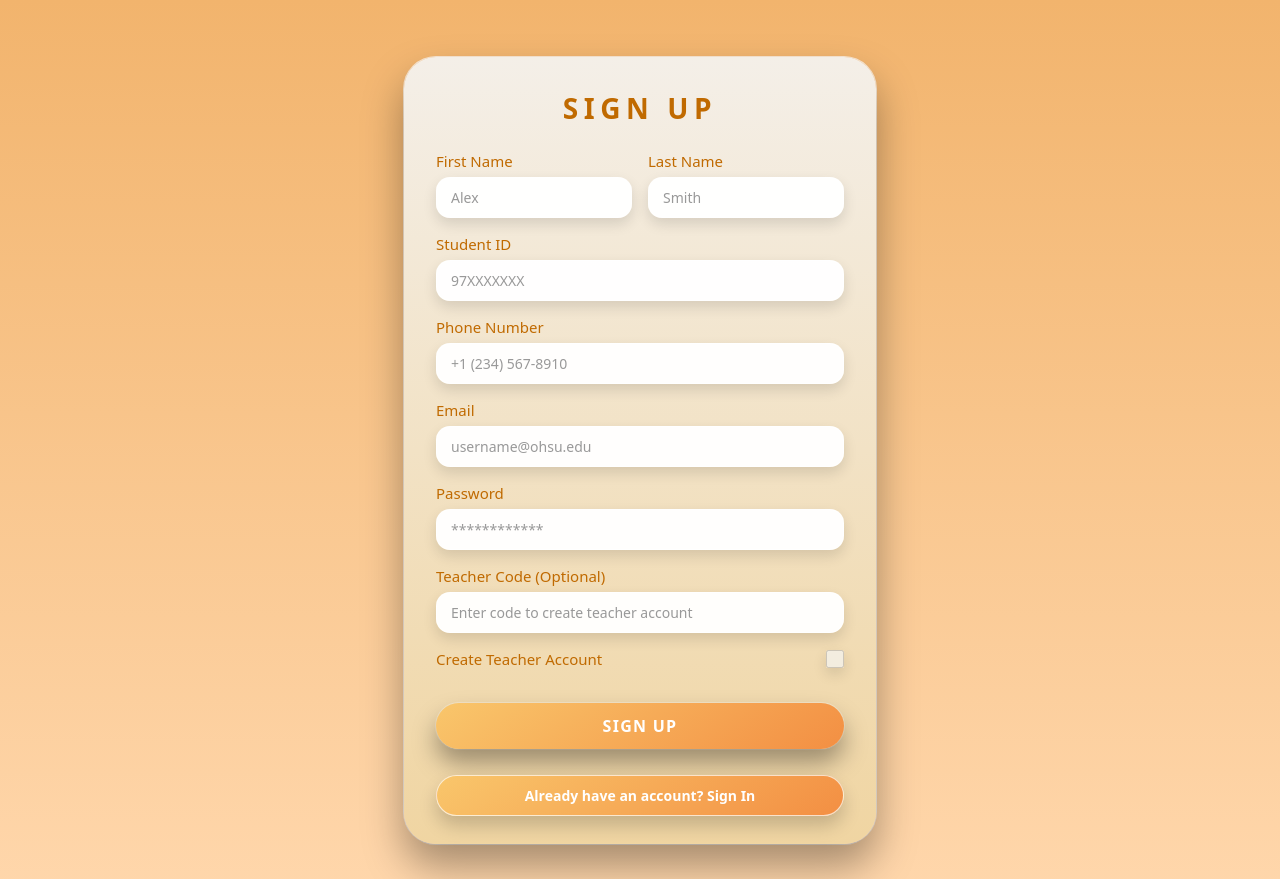
Test: SignUpPage › shows errors for empty or invalid inputs
In the field labelled "Email": coordinates (640, 446) top-left (436, 426), bottom-right (844, 466), type "invalidemail"
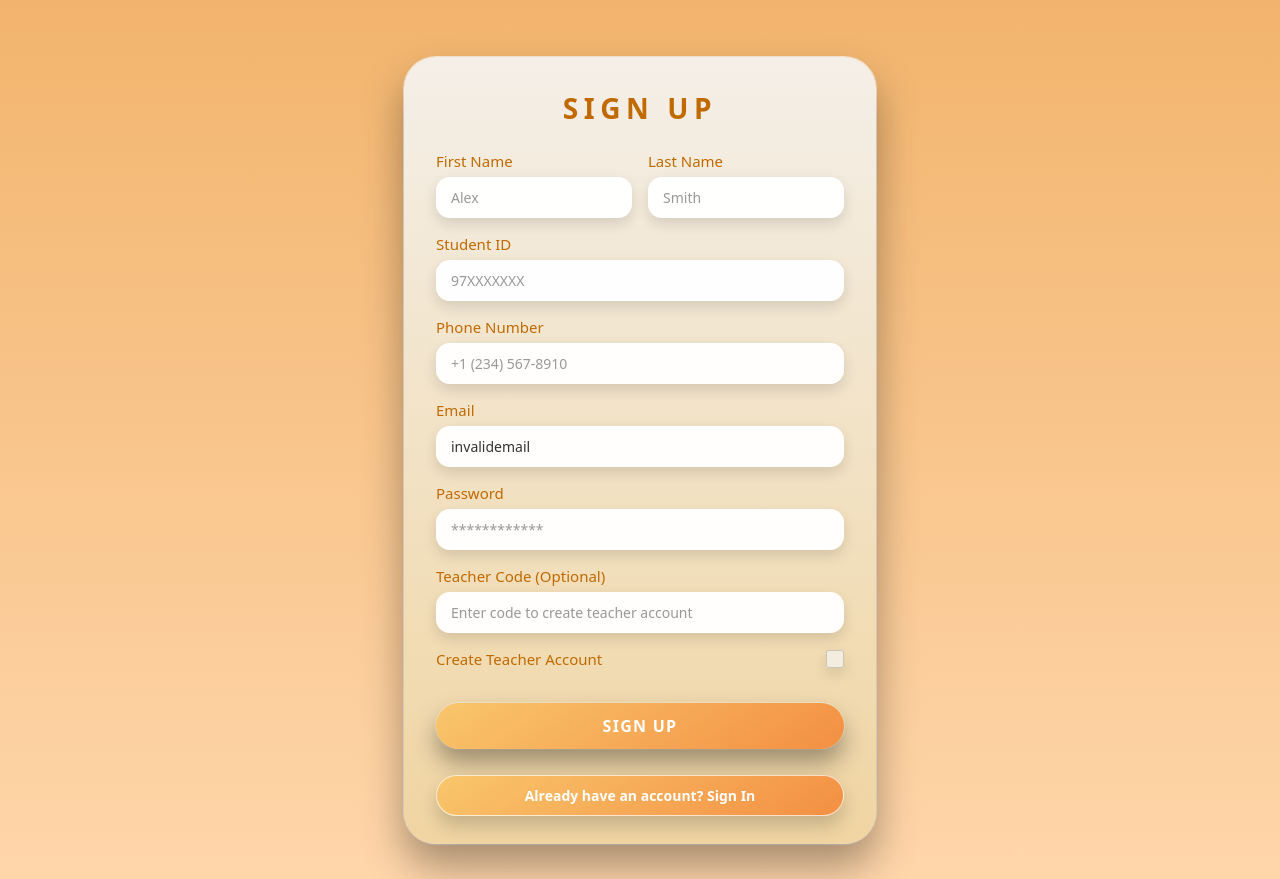
Click the button "Sign Up": coordinates (640, 726) top-left (436, 702), bottom-right (844, 748)
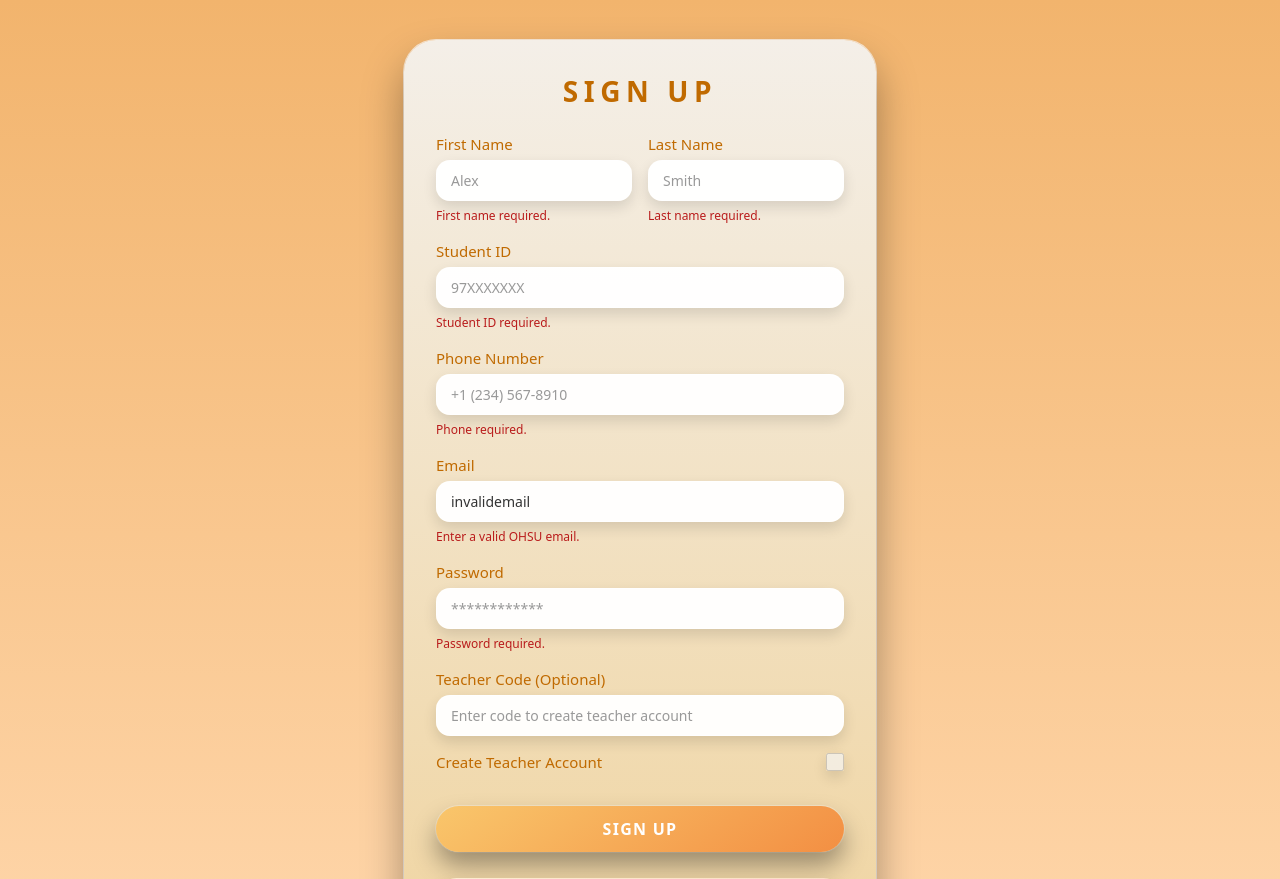
Now the text "Enter a valid OHSU email." is shown, box top-left (436, 528), bottom-right (580, 545)
Now the text "Password required." is shown, box top-left (436, 635), bottom-right (545, 652)
Now the text "First name required." is shown, box top-left (436, 207), bottom-right (550, 224)
